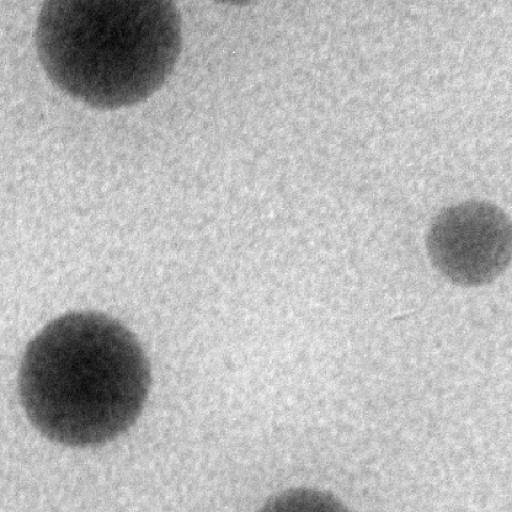Nanoparticles: (14, 307, 153, 447), (35, 0, 184, 107), (423, 199, 511, 285), (262, 486, 352, 510)
